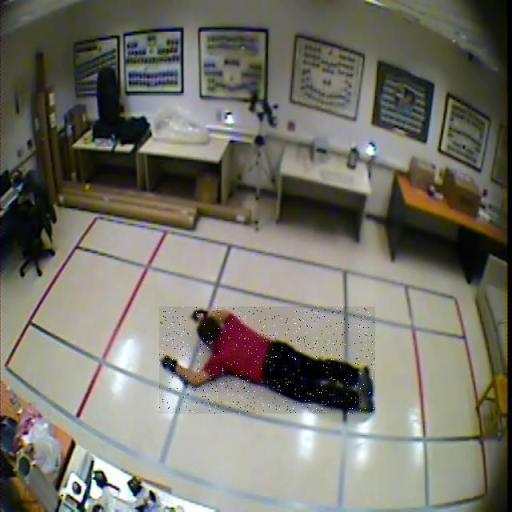Fall: (159, 307, 375, 414)
